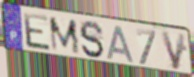7: (136, 27, 157, 66)
A: (106, 25, 137, 65)
E: (22, 11, 53, 53)
M: (48, 17, 82, 56)
S: (78, 20, 106, 60)
V: (160, 30, 187, 72)
